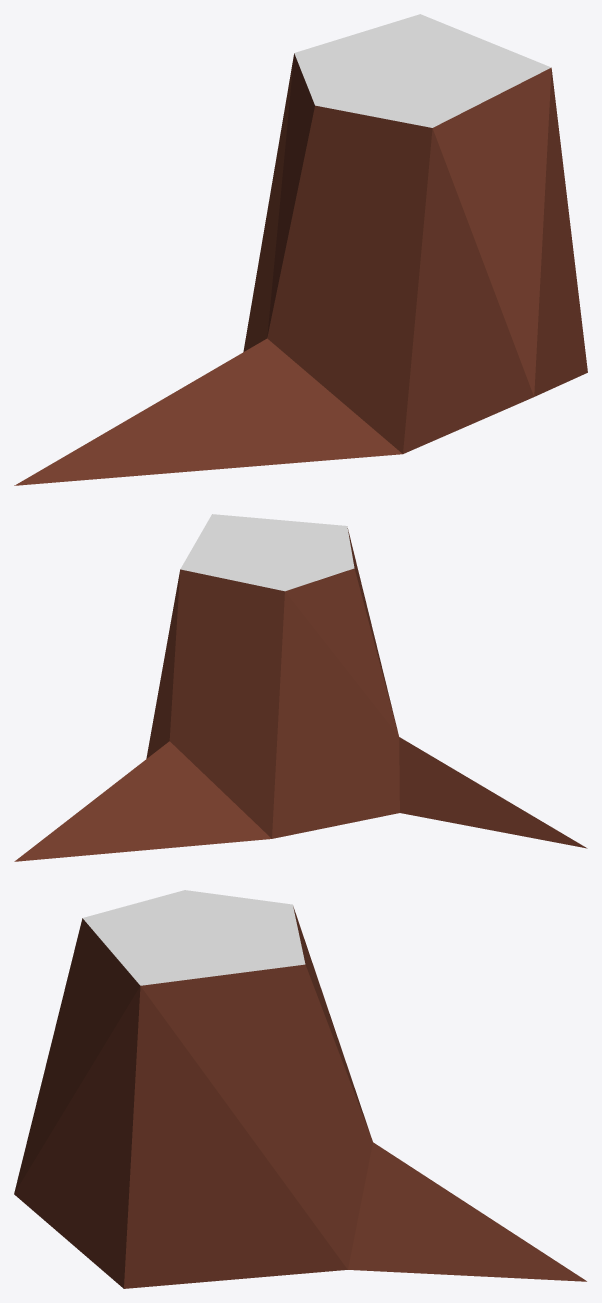
File: pine_trunk_type_2_extra_LOD3.fbx
The picture shows the model from 3 angles, top to bottom: view 1: azimuth 30°, elevation 25°; view 2: azimuth 150°, elevation 25°; view 3: azimuth 270°, elevation 25°; orthographic projection. The views are drawn at different scales.
Parts seen in each view (by area): view 1: pt_type_2_extra; view 2: pt_type_2_extra; view 3: pt_type_2_extra.
Part boxes in pixels (x1,y1,x2,y2): pt_type_2_extra: (14, 14, 587, 485); pt_type_2_extra: (14, 514, 587, 861); pt_type_2_extra: (14, 890, 586, 1288).
Size of the model in its own units: 348 by 186 by 332.
